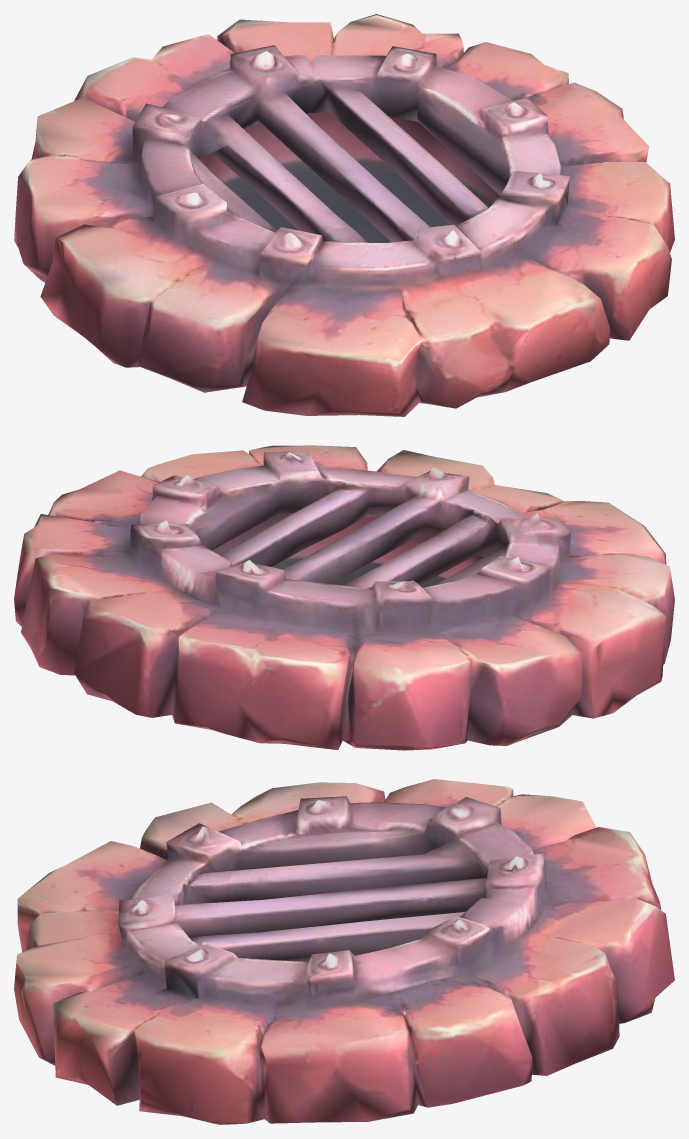
File: hazard_vent.glb
The picture shows the model from 3 angles, top to bottom: view 1: azimuth 30°, elevation 25°; view 2: azimuth 150°, elevation 25°; view 3: azimuth 270°, elevation 25°; orthographic projection.
Parts seen in each view (by area): view 1: hazard_vent; view 2: hazard_vent; view 3: hazard_vent.
Part boxes in pixels (box(x1,y1,x2,y2)): hazard_vent: box(14, 14, 674, 416); hazard_vent: box(14, 445, 674, 750); hazard_vent: box(14, 779, 674, 1124).
Size of the model in its own units: 1.29 by 0.3612 by 1.3.
Materials: 1 (1 with a texture image).
